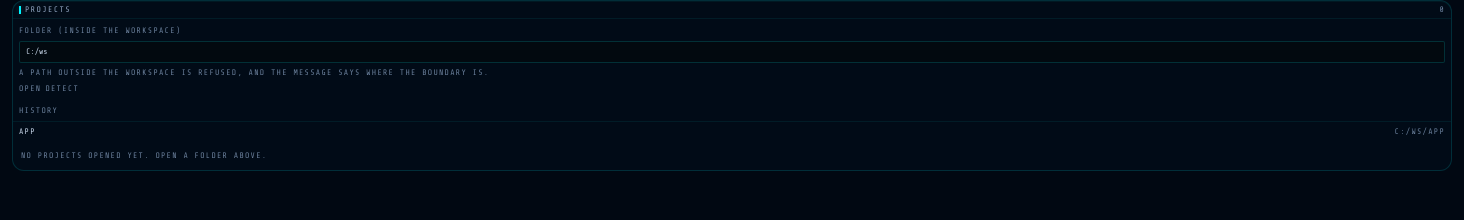
Test: ProjectsPanel › renders a detect refusal in the panel
The width and height of the screenshot is (1464, 220).
Check: the field labelled "Folder (inside the workspace)" holds "C:/ws", box [19,41,1445,63]
Click the button with aria-label "Detect project" at (62, 89), box [45,83,79,95]
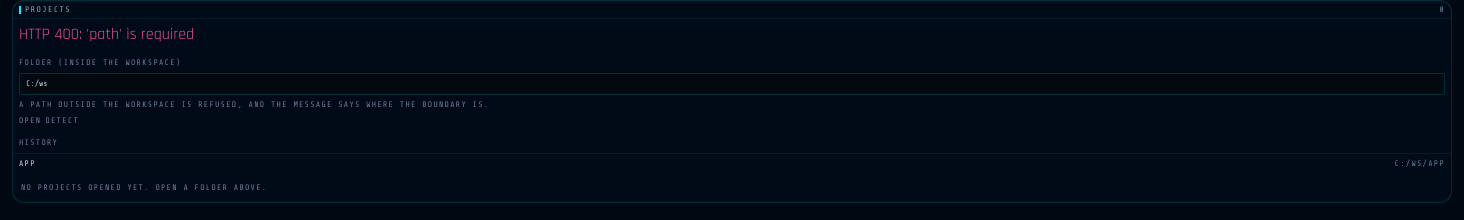
Check: the message shows "'path' is required", box [19,24,194,45]
